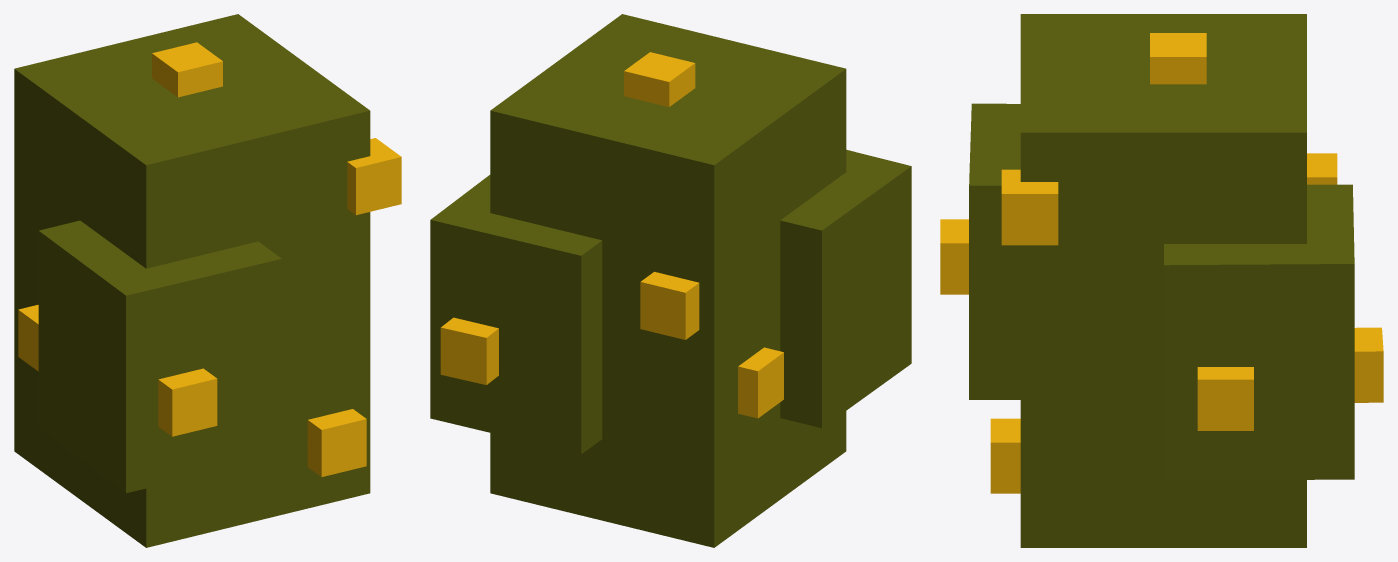
File: Shrub3.fbx
3 views of the same model, side by side, from view 1: azimuth 30°, elevation 25°; view 2: azimuth 150°, elevation 25°; view 3: azimuth 270°, elevation 25° (orthographic). The views are drawn at different scales.
Visible parts, largest first — view 1: Cube.025, Cube.019; view 2: Cube.025, Cube.019; view 3: Cube.025, Cube.019.
Part boxes in pixels (box(x1,y1,x2,y2)): Cube.025: box(14, 14, 370, 547); Cube.019: box(18, 42, 401, 476); Cube.025: box(430, 14, 911, 547); Cube.019: box(440, 52, 783, 418); Cube.025: box(969, 14, 1354, 547); Cube.019: box(940, 33, 1383, 493).
Size of the model in its own units: 3950 by 4626 by 4179.
